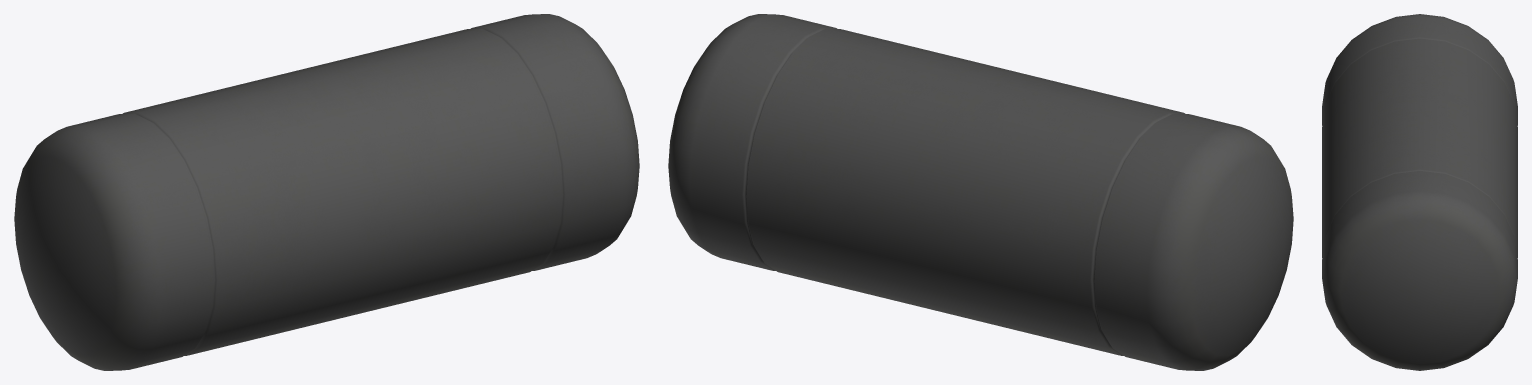
The model's file is utility-process-shell-tripo-original.glb.
3 views of the same model, side by side, from view 1: azimuth 30°, elevation 25°; view 2: azimuth 150°, elevation 25°; view 3: azimuth 270°, elevation 25° (orthographic). The views are drawn at different scales.
Visible parts, largest first — view 1: Authored_surface; view 2: Authored_surface; view 3: Authored_surface.
Part boxes in pixels (box(x1,y1,x2,y2)): Authored_surface: box(14, 14, 639, 370); Authored_surface: box(668, 14, 1293, 370); Authored_surface: box(1322, 14, 1517, 370).
Size of the model in its own units: 1 by 0.3846 by 0.3846.
1 material, 1 textured.
